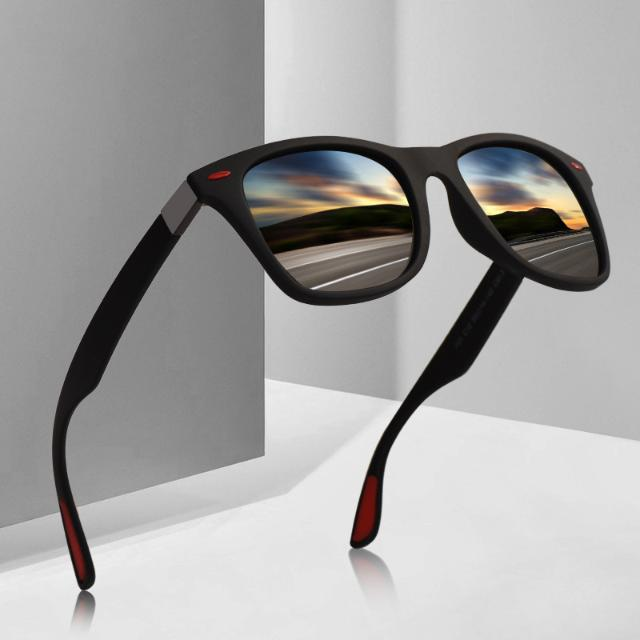Sunglasses: (46, 128, 616, 602)
